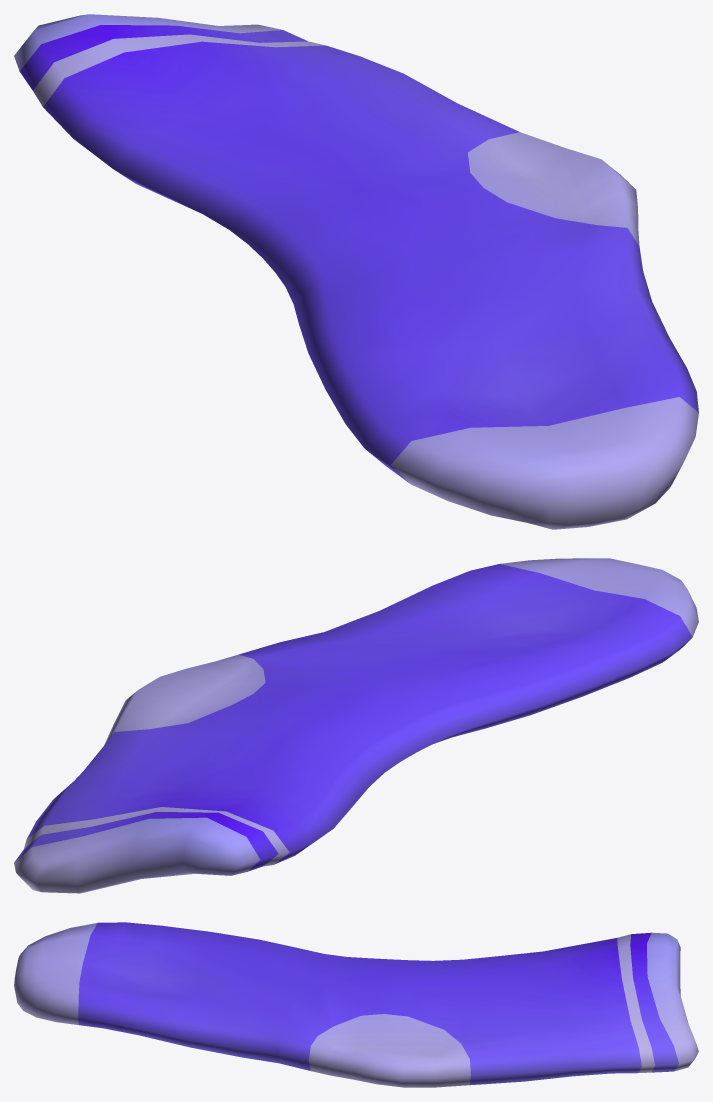
File: sockB.glb
The picture shows the model from 3 angles, top to bottom: view 1: azimuth 30°, elevation 25°; view 2: azimuth 150°, elevation 25°; view 3: azimuth 270°, elevation 25°; orthographic projection. The views are drawn at different scales.
Visible parts, largest first — view 1: sockB; view 2: sockB; view 3: sockB.
Part boxes in pixels (x1,y1,x2,y2): sockB: [14, 14, 698, 529]; sockB: [14, 558, 698, 893]; sockB: [14, 922, 698, 1087].
Bounding box in the file's own units: 0.8633 × 0.2003 × 1.78.
1 material, 1 textured.
